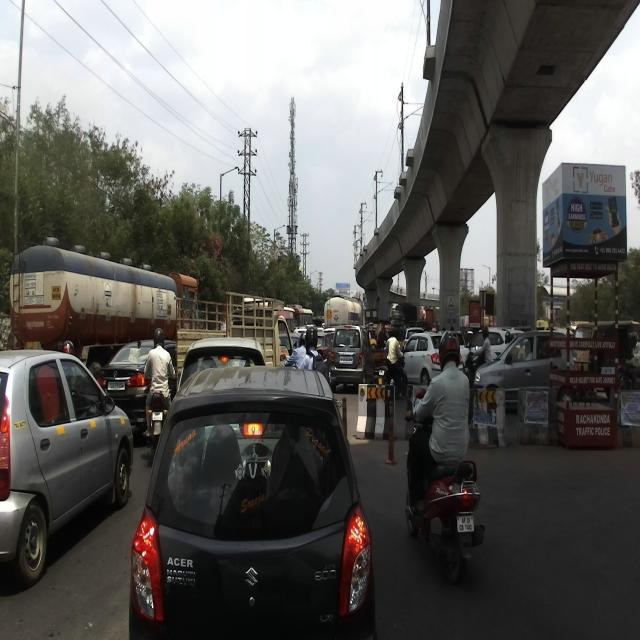Car_Honda: (95, 337, 178, 444)
Car_Hyundai: (474, 328, 580, 408)
Car_Maruti-Suzuki: (123, 376, 370, 639), (400, 333, 464, 386), (330, 321, 375, 390)
Car_TATA: (0, 348, 132, 585)
scooter: (405, 385, 485, 583)
truck: (8, 236, 201, 384), (174, 288, 298, 391)
